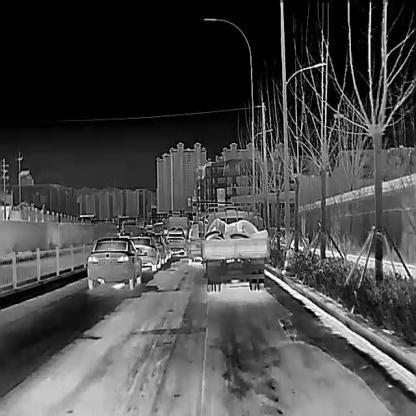car: (197, 200, 273, 292), (84, 234, 140, 289), (125, 233, 161, 272), (163, 225, 185, 257), (187, 223, 202, 263), (150, 231, 168, 264), (162, 233, 172, 260)
